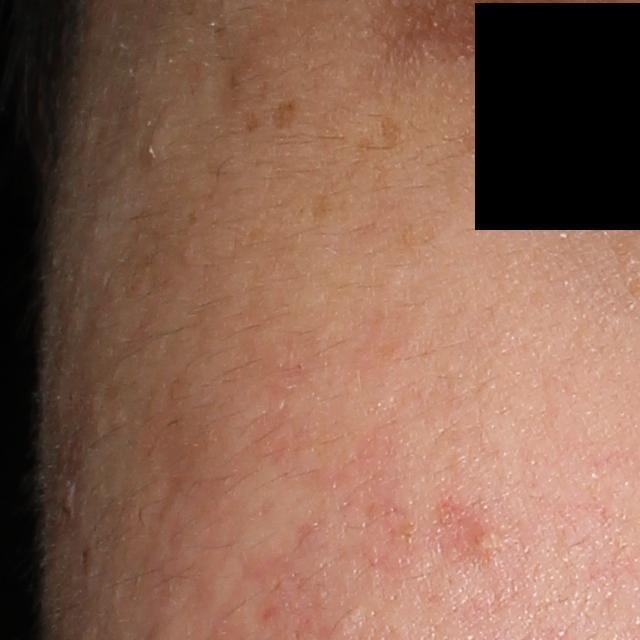melasma: (269, 93, 301, 132), (241, 110, 261, 134)
